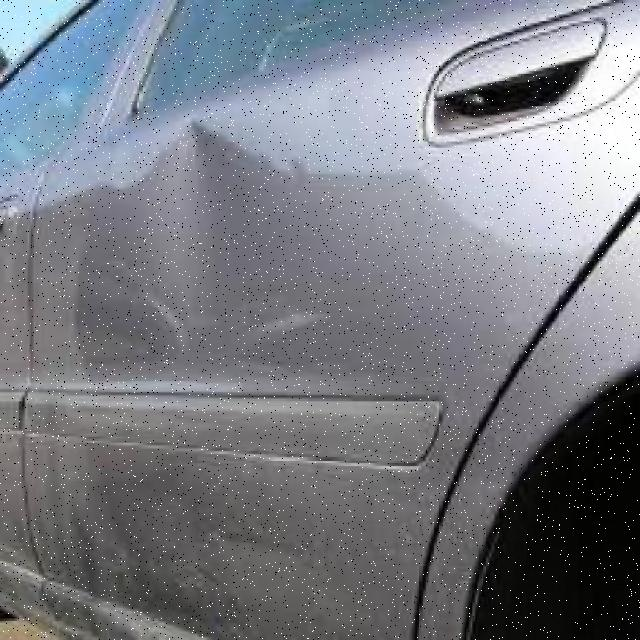damage: (109, 115, 319, 361)
